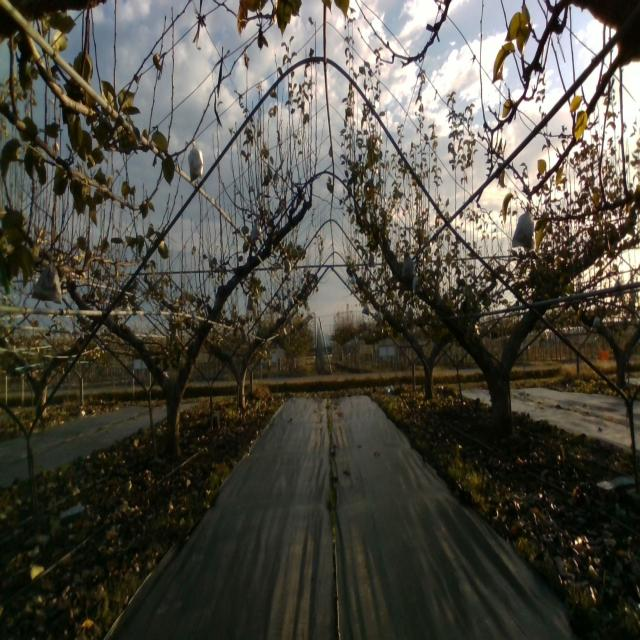pearbags: (511, 202, 535, 250), (188, 140, 204, 182), (250, 217, 264, 246), (400, 253, 414, 278)
